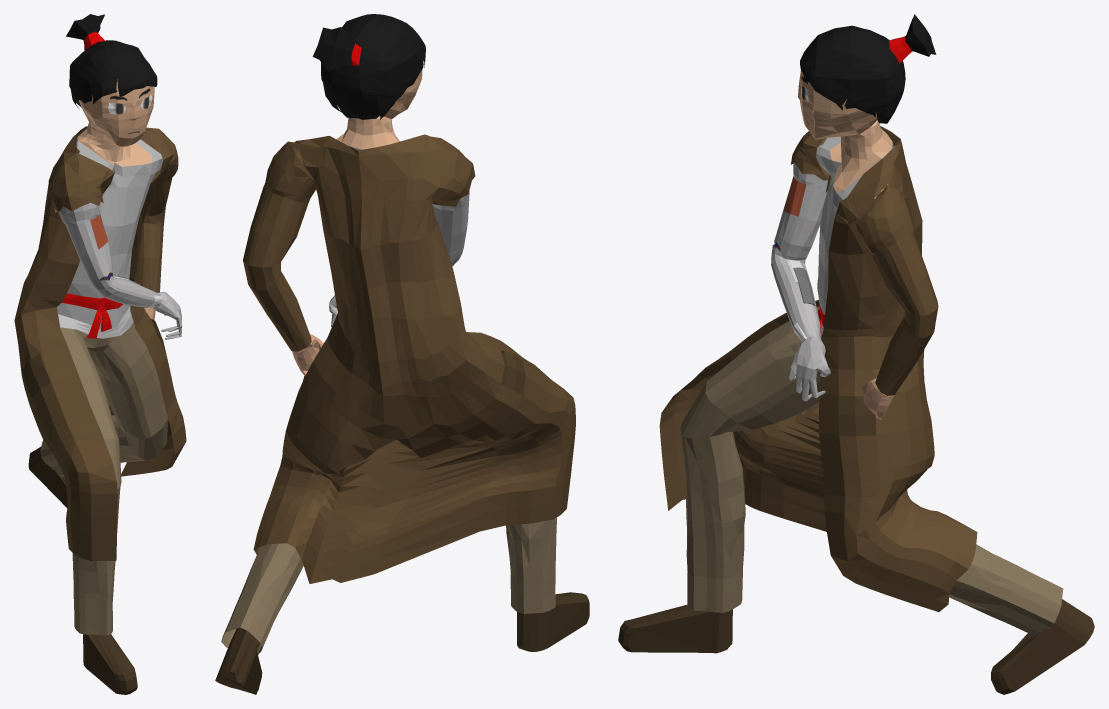
File: One_RR_000019.obj
3 views of the same model, side by side, from view 1: azimuth 30°, elevation 25°; view 2: azimuth 150°, elevation 25°; view 3: azimuth 270°, elevation 25° (orthographic). The views are drawn at different scales.
Parts seen in each view (by area): view 1: Hair_Cube.004; view 2: Hair_Cube.004; view 3: Hair_Cube.004.
Boxes of the visible parts, bbox=[...] form: Hair_Cube.004: bbox=[14, 14, 186, 694]; Hair_Cube.004: bbox=[215, 14, 589, 694]; Hair_Cube.004: bbox=[618, 14, 1094, 694].
Size of the model in its own units: 1.23 by 3.6 by 2.3.
